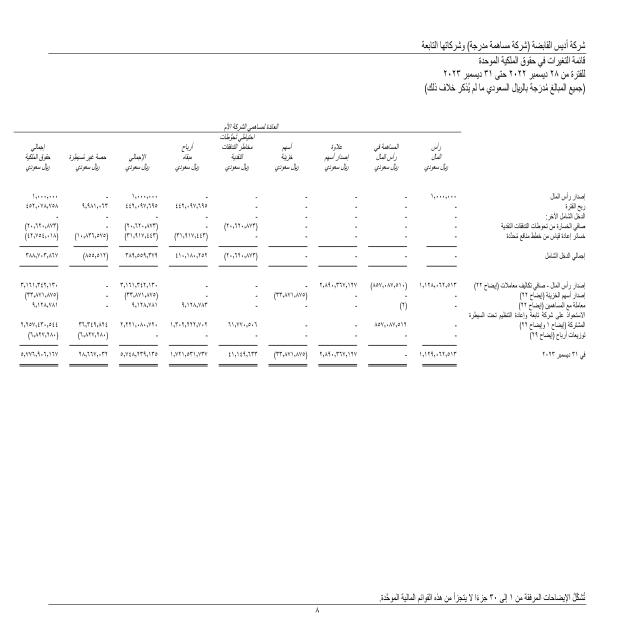financial_sheets: (474, 54, 592, 68)
table: (8, 107, 473, 400)
